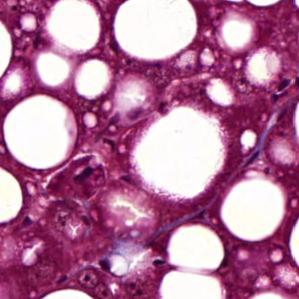steatosis: (216, 177, 292, 241)
